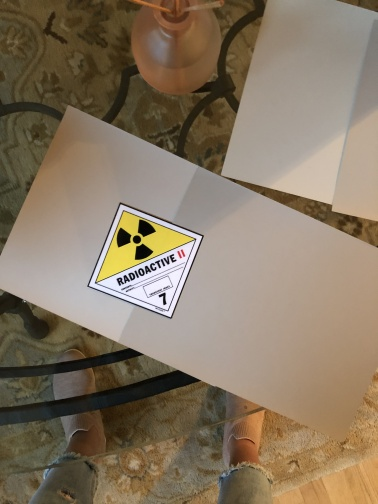Radioactive: (87, 203, 203, 321)
